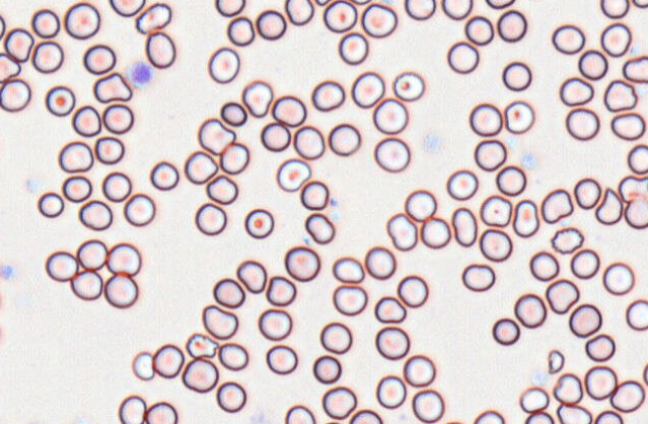PLT: (125, 58, 158, 91), (0, 259, 17, 285), (531, 370, 552, 388), (519, 152, 538, 171)
RBC: (63, 1, 100, 39), (360, 2, 397, 38), (372, 97, 408, 134), (373, 136, 410, 172), (284, 245, 320, 281), (181, 357, 218, 392), (350, 71, 385, 108), (103, 273, 138, 308), (545, 278, 579, 314), (207, 46, 240, 83), (241, 79, 273, 117), (386, 212, 417, 251), (106, 242, 141, 276), (321, 385, 356, 419), (183, 150, 218, 184), (276, 158, 311, 192), (568, 303, 602, 337), (375, 325, 409, 359), (468, 102, 502, 136), (610, 379, 645, 412), (584, 365, 617, 400), (271, 94, 306, 127), (513, 293, 546, 328), (565, 107, 600, 140), (135, 2, 171, 34), (411, 388, 444, 422), (446, 40, 479, 74), (603, 79, 637, 112), (478, 228, 512, 261), (152, 343, 184, 378), (58, 140, 93, 172), (322, 0, 357, 32), (257, 308, 292, 340), (600, 22, 632, 57), (145, 31, 175, 68), (319, 321, 352, 354), (479, 194, 512, 227), (473, 138, 506, 171), (328, 123, 361, 156), (602, 261, 634, 295), (293, 125, 325, 159), (364, 245, 396, 279), (311, 79, 345, 111), (332, 284, 367, 315), (194, 202, 226, 235), (31, 40, 63, 73), (403, 354, 435, 387), (123, 193, 155, 226), (0, 78, 31, 112), (375, 374, 406, 408), (78, 199, 112, 230), (82, 43, 116, 74), (236, 259, 267, 293), (503, 100, 534, 134), (551, 23, 585, 54), (559, 76, 594, 106), (451, 206, 477, 246), (404, 189, 436, 221), (45, 250, 78, 281), (76, 238, 107, 271), (552, 372, 583, 405), (212, 277, 245, 308), (496, 9, 527, 42), (420, 216, 451, 249), (397, 274, 428, 307), (69, 270, 103, 300), (338, 31, 368, 65), (610, 111, 645, 140), (304, 212, 335, 244), (102, 102, 133, 134), (495, 164, 526, 196), (446, 169, 478, 200), (205, 174, 238, 204), (71, 104, 101, 137), (215, 381, 246, 412), (265, 275, 296, 306), (44, 85, 75, 116), (255, 9, 286, 40), (219, 142, 249, 174), (265, 344, 297, 374), (392, 71, 424, 101), (550, 226, 584, 254), (461, 263, 495, 291), (529, 250, 559, 281), (260, 121, 290, 152), (101, 171, 131, 202), (578, 49, 608, 80), (299, 179, 329, 210), (501, 60, 531, 91), (570, 248, 600, 279), (149, 160, 179, 190), (464, 15, 494, 45), (244, 208, 274, 238), (217, 342, 248, 371), (584, 333, 615, 362), (374, 295, 406, 323), (573, 177, 601, 209), (312, 354, 341, 384), (31, 8, 60, 38), (94, 135, 124, 164), (226, 15, 254, 46), (332, 256, 364, 283), (618, 174, 647, 203), (61, 175, 92, 202), (118, 394, 146, 423), (519, 386, 549, 413), (492, 317, 520, 345), (624, 196, 647, 229), (284, 0, 314, 25), (144, 401, 177, 423), (556, 403, 592, 423), (37, 191, 64, 217), (622, 55, 647, 83), (131, 350, 154, 380), (625, 299, 647, 330), (220, 101, 247, 126), (108, 0, 145, 17), (627, 143, 647, 174), (404, 0, 435, 20), (441, 0, 472, 20), (284, 404, 315, 423), (600, 0, 629, 18), (348, 408, 382, 423), (214, 0, 245, 16), (472, 409, 504, 423), (594, 409, 623, 423), (524, 411, 554, 423), (485, 0, 515, 9), (0, 14, 6, 40), (642, 361, 648, 385), (632, 0, 647, 8), (378, 0, 400, 5), (350, 0, 371, 5), (314, 0, 331, 6), (0, 287, 4, 311), (442, 420, 464, 424), (322, 420, 343, 424)
Schistocyte: (198, 117, 236, 156), (91, 72, 133, 103), (202, 305, 239, 340), (3, 28, 35, 63), (542, 188, 574, 223), (513, 199, 541, 238), (596, 186, 623, 226), (187, 333, 221, 359), (0, 52, 23, 83), (548, 349, 566, 376)
